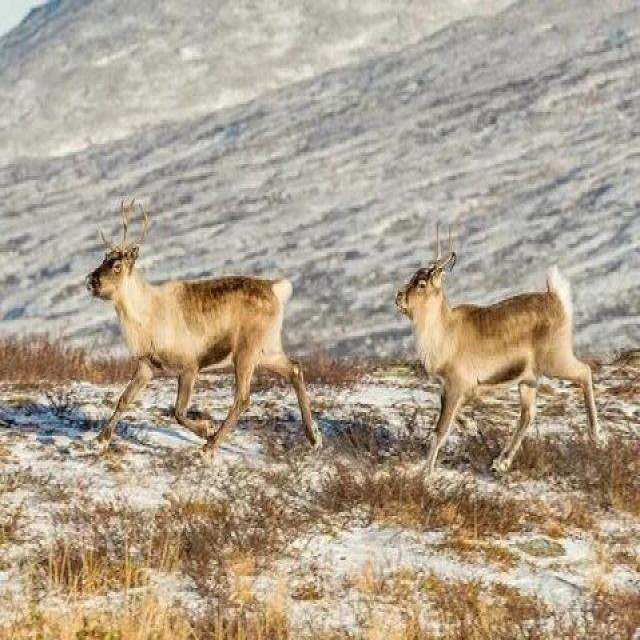deer: (358, 215, 629, 502), (80, 211, 327, 505)
